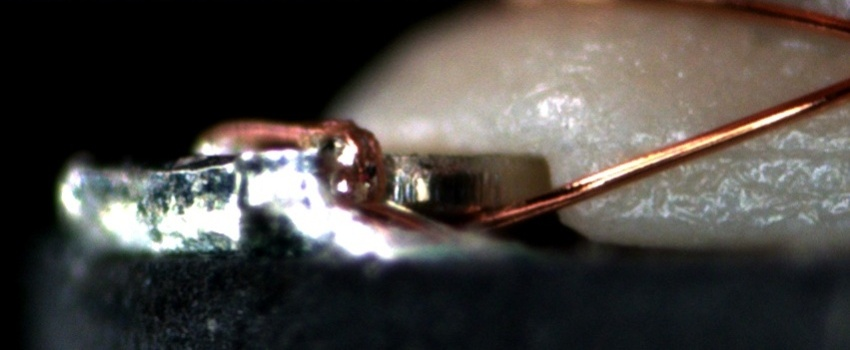DL: (713, 127, 849, 184)
TE: (195, 107, 388, 203)
